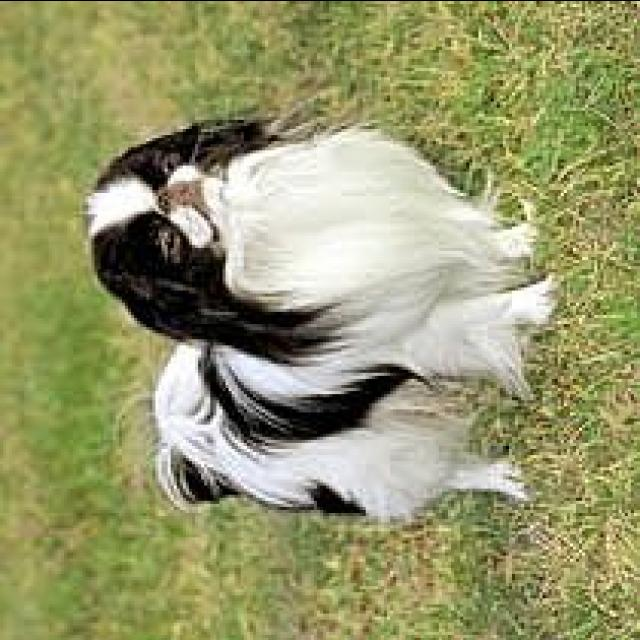husky: (86, 101, 564, 521)
